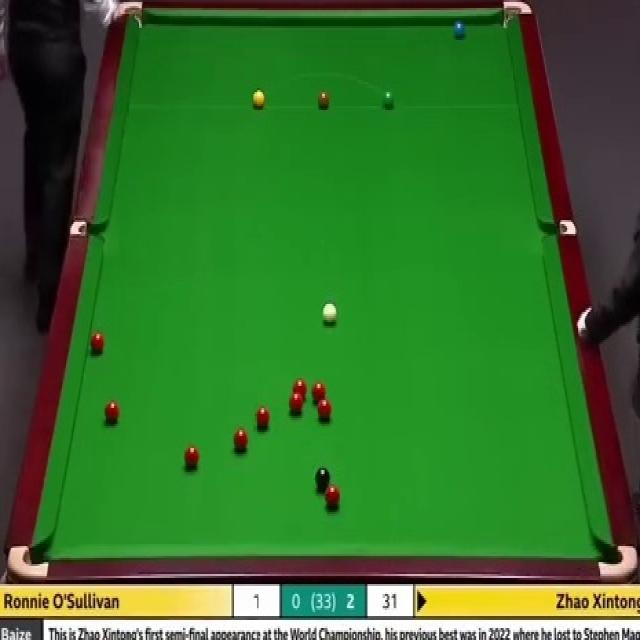pocket: (596, 542, 638, 580), (7, 543, 51, 577), (498, 0, 533, 32), (70, 220, 107, 238), (541, 218, 575, 236)
